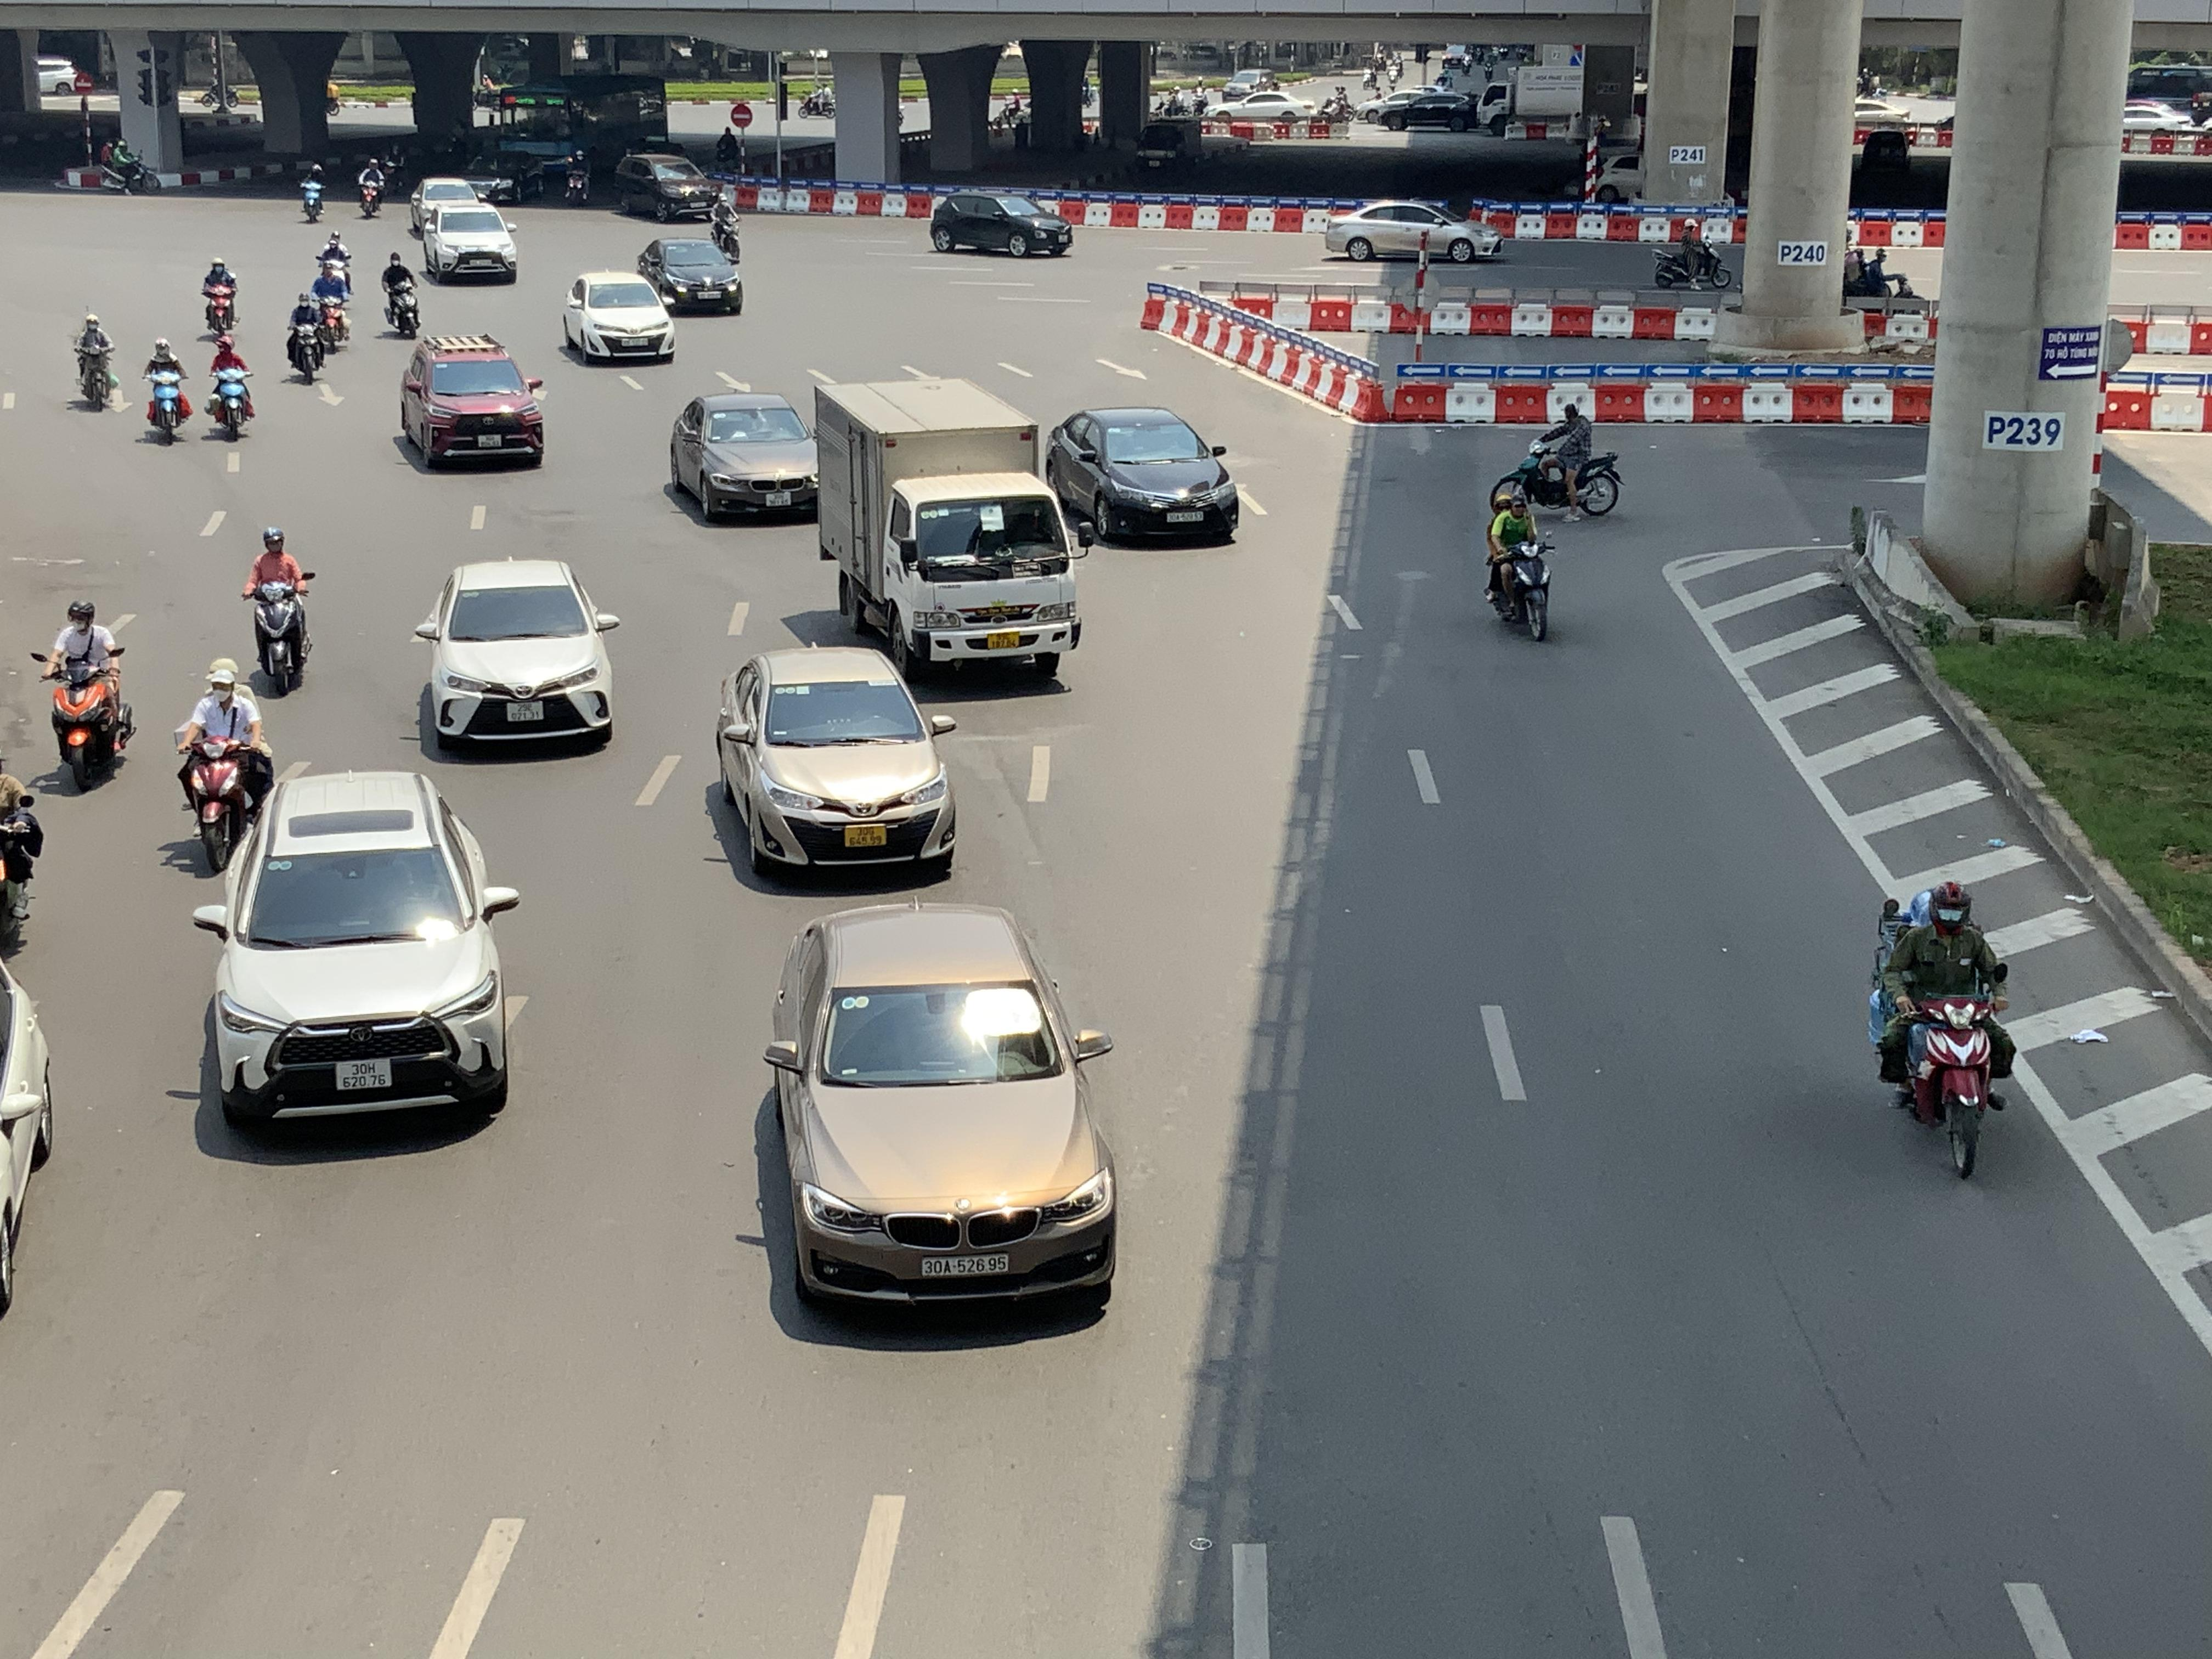BSD: (921, 1253, 1010, 1276), (1167, 511, 1204, 523)
BSV: (336, 1060, 390, 1091), (845, 824, 887, 847), (507, 701, 545, 721), (988, 631, 1019, 650), (766, 491, 791, 507)
bus: (498, 68, 669, 159)
car: (754, 901, 1120, 1324), (192, 767, 523, 1140), (709, 645, 960, 884), (413, 558, 620, 756), (1043, 406, 1240, 547), (665, 390, 822, 525), (395, 335, 545, 472), (1322, 199, 1503, 263), (559, 272, 678, 366), (928, 188, 1073, 258), (636, 237, 744, 315), (423, 202, 517, 284), (613, 153, 718, 223), (1371, 87, 1479, 131), (460, 150, 545, 202), (409, 176, 477, 227), (1204, 92, 1317, 122)
motorbike: (1871, 880, 2013, 1180), (178, 657, 273, 875), (37, 598, 132, 796), (1494, 397, 1622, 518), (244, 528, 314, 697), (1486, 486, 1557, 643), (0, 739, 42, 958), (1651, 214, 1733, 291), (204, 331, 256, 441), (141, 336, 192, 444), (70, 312, 118, 411), (284, 288, 329, 385), (312, 260, 352, 356), (380, 249, 421, 336), (200, 256, 239, 340), (709, 193, 742, 258), (298, 159, 327, 223), (357, 155, 385, 220), (564, 150, 590, 207), (993, 87, 1031, 125), (798, 82, 834, 120)
truck: (810, 369, 1087, 681), (1475, 66, 1583, 129)
